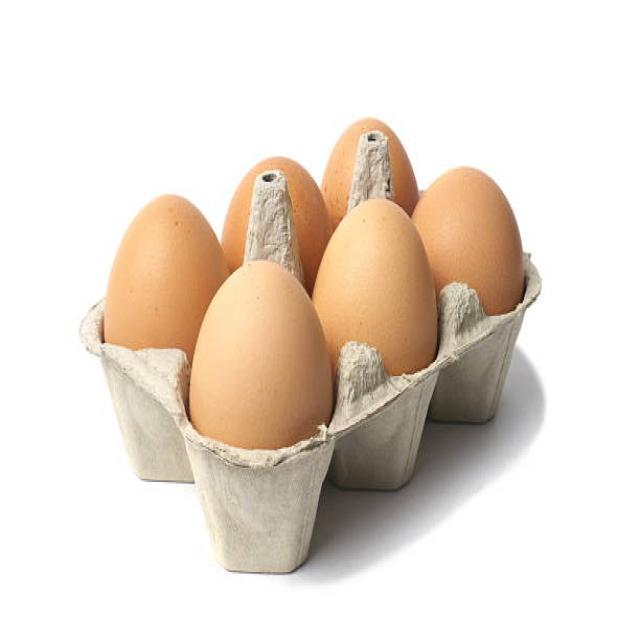egg_: (190, 262, 334, 447), (321, 199, 435, 372), (103, 192, 203, 348), (426, 161, 522, 311)
